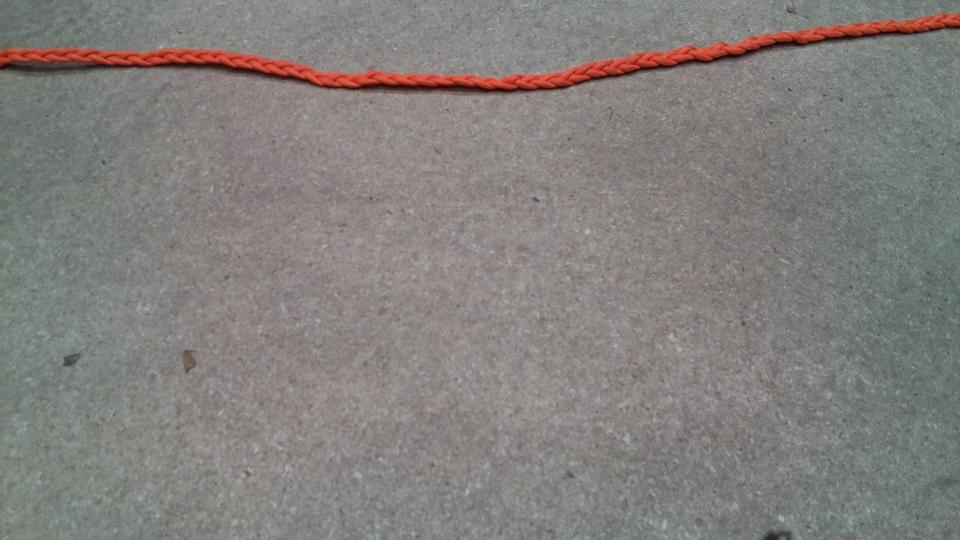rope: (1, 9, 960, 102)
